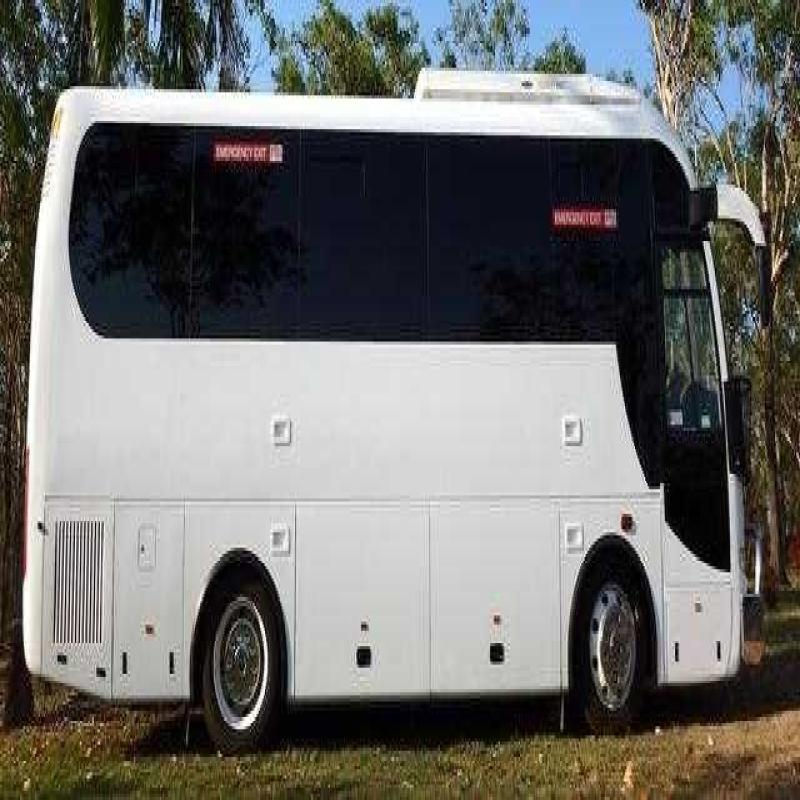bus: (24, 48, 765, 736)
